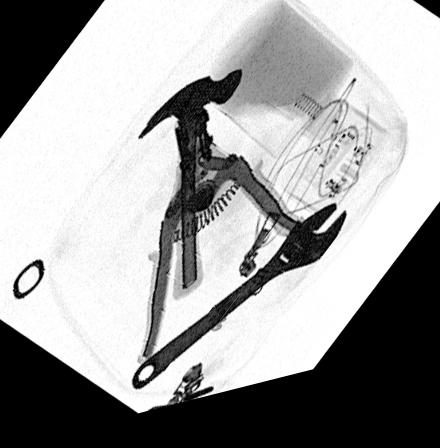Hammer: (132, 80, 242, 310)
Pliers: (131, 113, 314, 377)
Wrench: (126, 218, 349, 401)
